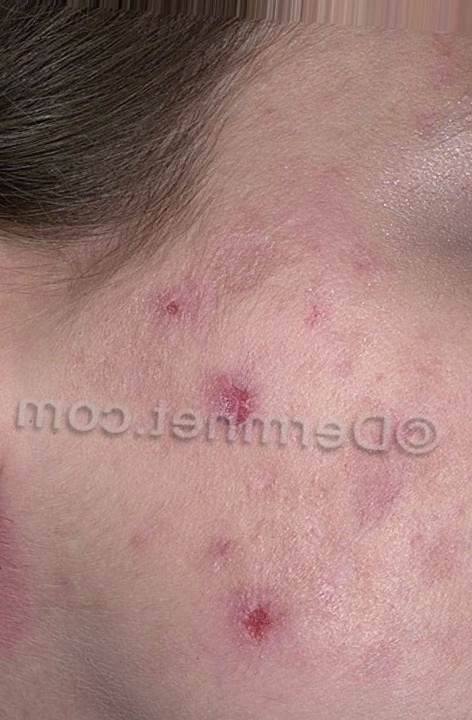Acne: (110, 197, 348, 709)
